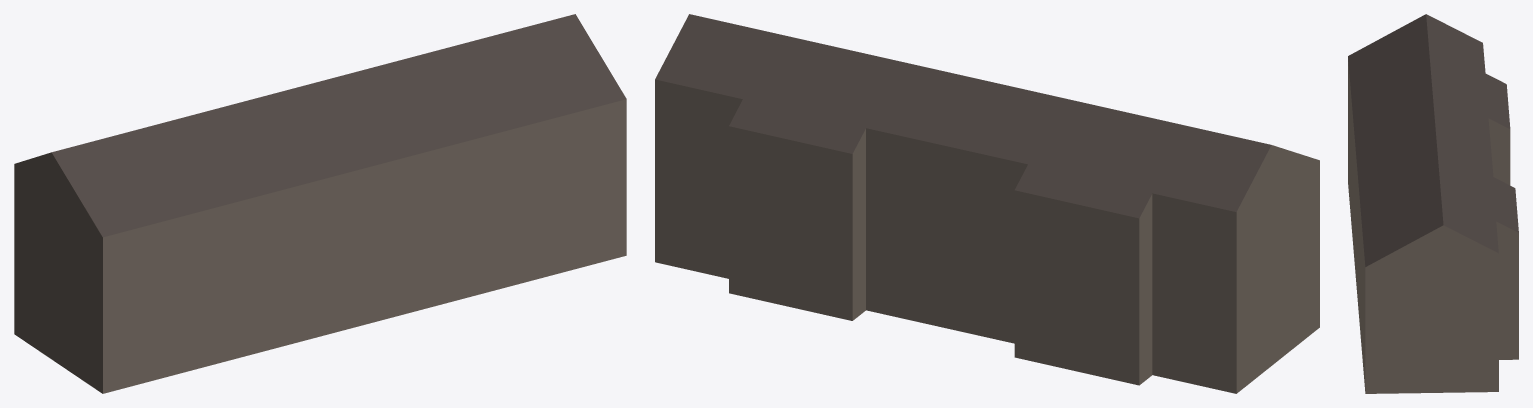
3 views of the same model, side by side, from view 1: azimuth 30°, elevation 25°; view 2: azimuth 150°, elevation 25°; view 3: azimuth 270°, elevation 25° (orthographic). The views are drawn at different scales.
Visible parts, largest first — view 1: HP-w1318374450; view 2: HP-w1318374450; view 3: HP-w1318374450.
Part boxes in pixels (left/top/right/bottom): HP-w1318374450: left=14, top=14, right=626, bottom=393; HP-w1318374450: left=655, top=14, right=1319, bottom=393; HP-w1318374450: left=1348, top=14, right=1518, bottom=393.
Bounding box in the file's own units: 32.49 × 11.91 × 11.01.
